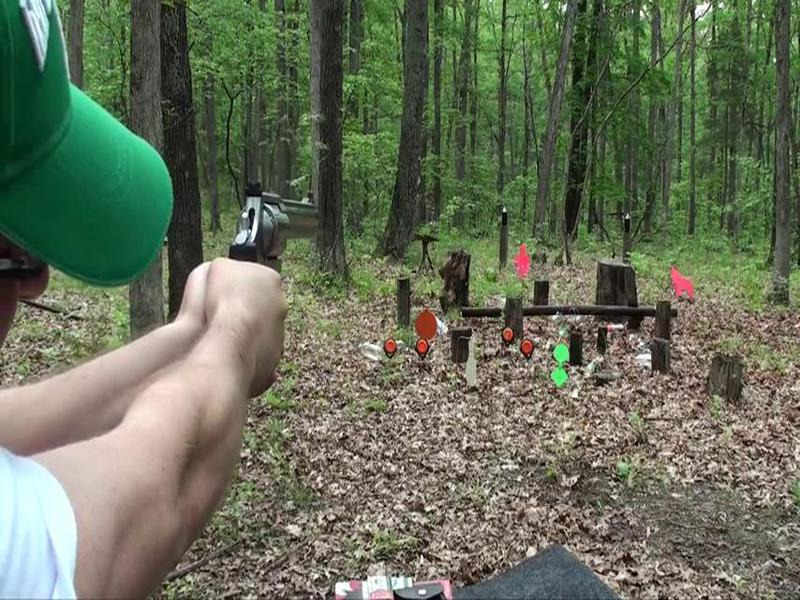Revolver: (184, 166, 331, 335)
